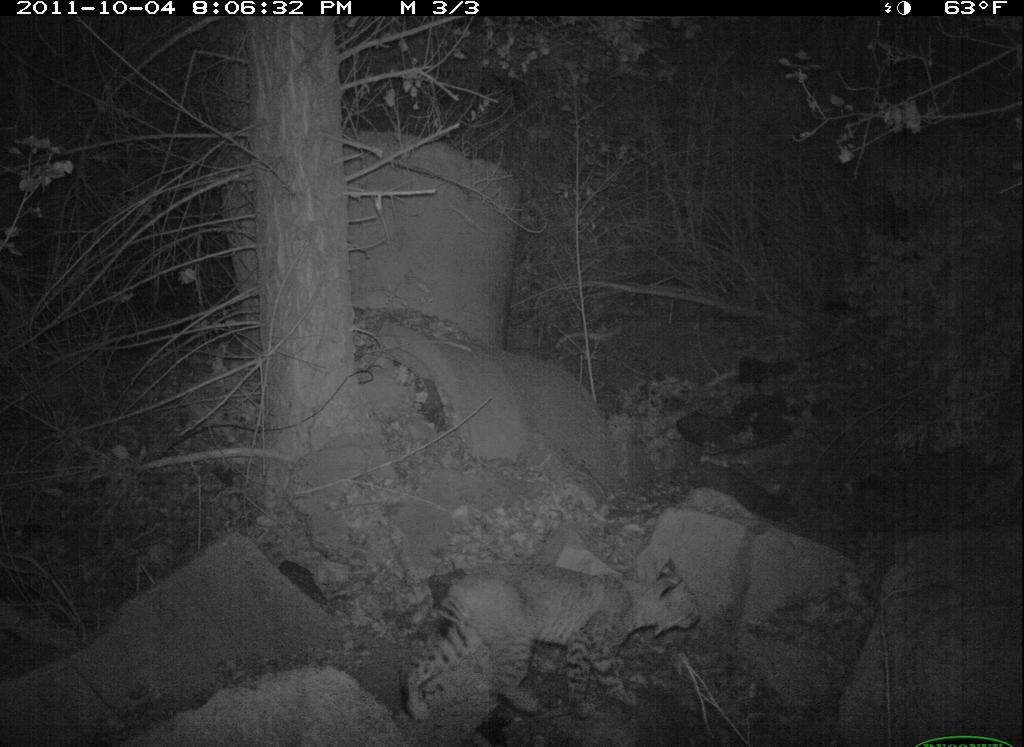bobcat: (400, 555, 706, 731)
